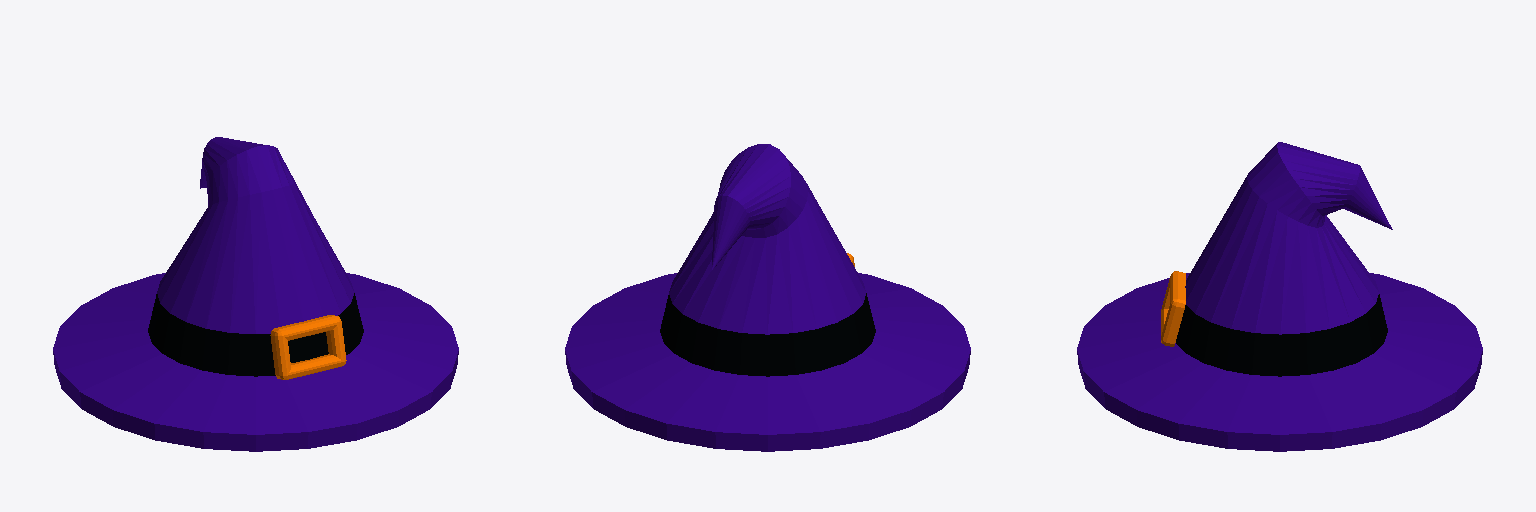
Rendered from character_witchHat.obj.
3 views of the same model, side by side, from view 1: azimuth 30°, elevation 25°; view 2: azimuth 150°, elevation 25°; view 3: azimuth 270°, elevation 25° (orthographic).
Visible parts, largest first — view 1: character_witchHat_Cube.004; view 2: character_witchHat_Cube.004; view 3: character_witchHat_Cube.004.
Boxes of the visible parts, <box> form: character_witchHat_Cube.004: <box>53,137,458,451</box>; character_witchHat_Cube.004: <box>565,144,970,451</box>; character_witchHat_Cube.004: <box>1077,142,1482,451</box>.
Size of the model in its own units: 1.23 by 0.7426 by 1.23.